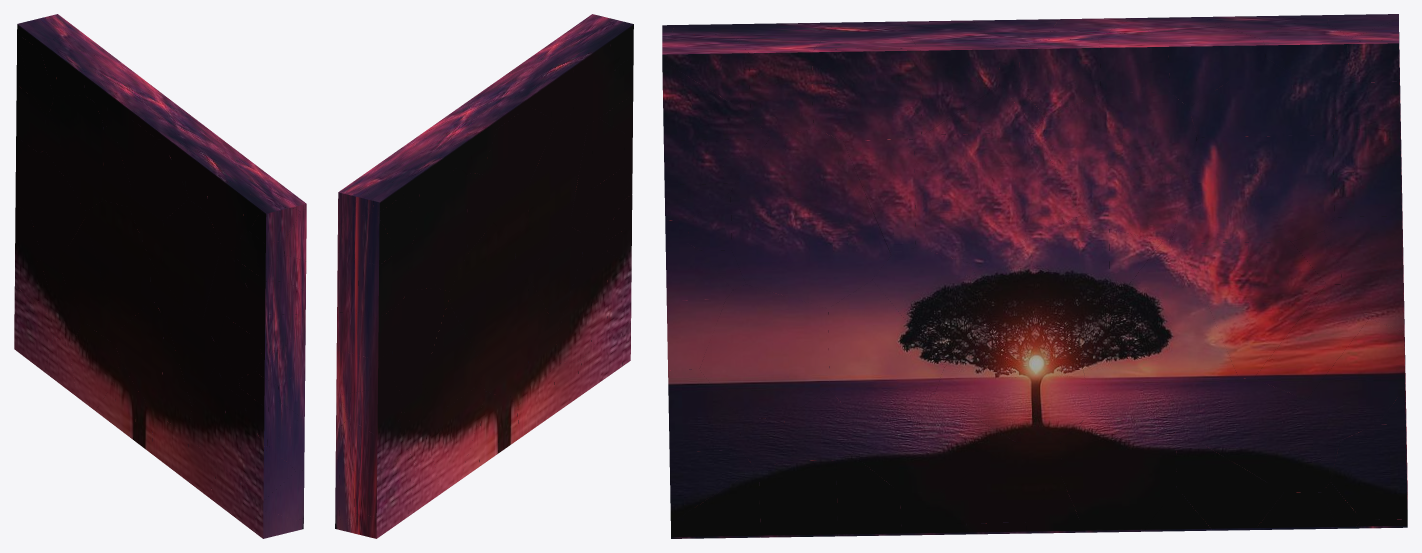
Rendered from dadacracked.fbx.
3 renders of one model, left to right at view 1: azimuth 30°, elevation 25°; view 2: azimuth 150°, elevation 25°; view 3: azimuth 270°, elevation 25°, orthographic. The views are drawn at different scales.
Parts seen in each view (by area): view 1: Cube_cell.056, Cube_cell.099, Cube_cell.076, Cube_cell.096, Cube_cell.069, Cube_cell.035, Cube_cell.027, Cube_cell.042, Cube_cell.011, Cube_cell.005, Cube_cell.060, Cube_cell.006 (+60 smaller); view 2: Cube_cell.056, Cube_cell.099, Cube_cell.076, Cube_cell.096, Cube_cell.069, Cube_cell.035, Cube_cell.027, Cube_cell.042, Cube_cell.011, Cube_cell.038, Cube_cell.005, Cube_cell.060 (+59 smaller); view 3: Cube_cell.010, Cube_cell.005, Cube_cell.022, Cube_cell.036, Cube_cell.086, Cube_cell.068, Cube_cell.058, Cube_cell.095, Cube_cell.055, Cube_cell.085, Cube_cell.057, Cube_cell.043 (+48 smaller).
Part boxes in pixels (x1,y1,x2,y2): Cube_cell.056: [86, 200, 150, 330]; Cube_cell.099: [162, 199, 221, 318]; Cube_cell.076: [50, 95, 103, 211]; Cube_cell.096: [30, 150, 85, 261]; Cube_cell.069: [116, 302, 163, 405]; Cube_cell.035: [207, 165, 276, 251]; Cube_cell.027: [166, 300, 215, 405]; Cube_cell.042: [69, 322, 117, 410]; Cube_cell.011: [130, 139, 188, 221]; Cube_cell.005: [71, 228, 117, 345]; Cube_cell.060: [189, 366, 225, 468]; Cube_cell.006: [185, 139, 250, 212]; Cube_cell.056: [450, 223, 515, 364]; Cube_cell.099: [528, 112, 587, 245]; Cube_cell.076: [413, 167, 467, 291]; Cube_cell.096: [392, 288, 449, 396]; Cube_cell.069: [480, 280, 528, 395]; Cube_cell.035: [541, 35, 610, 123]; Cube_cell.027: [531, 226, 582, 331]; Cube_cell.042: [432, 384, 482, 493]; Cube_cell.011: [495, 104, 554, 207]; Cube_cell.038: [335, 418, 406, 473]; Cube_cell.005: [435, 306, 482, 406]; Cube_cell.060: [555, 255, 592, 363]; Cube_cell.010: [730, 128, 890, 308]; Cube_cell.005: [1082, 239, 1238, 430]; Cube_cell.022: [1035, 91, 1196, 241]; Cube_cell.036: [914, 133, 1080, 263]; Cube_cell.086: [1172, 135, 1334, 243]; Cube_cell.068: [971, 215, 1110, 364]; Cube_cell.058: [699, 284, 829, 418]; Cube_cell.095: [1182, 241, 1326, 378]; Cube_cell.055: [935, 331, 1092, 442]; Cube_cell.085: [1180, 378, 1340, 492]; Cube_cell.057: [1061, 411, 1176, 529]; Cube_cell.043: [828, 280, 944, 425].
Bounding box in the file's own units: 200 × 1576 × 2149.
Materials: 1 (1 with a texture image).
